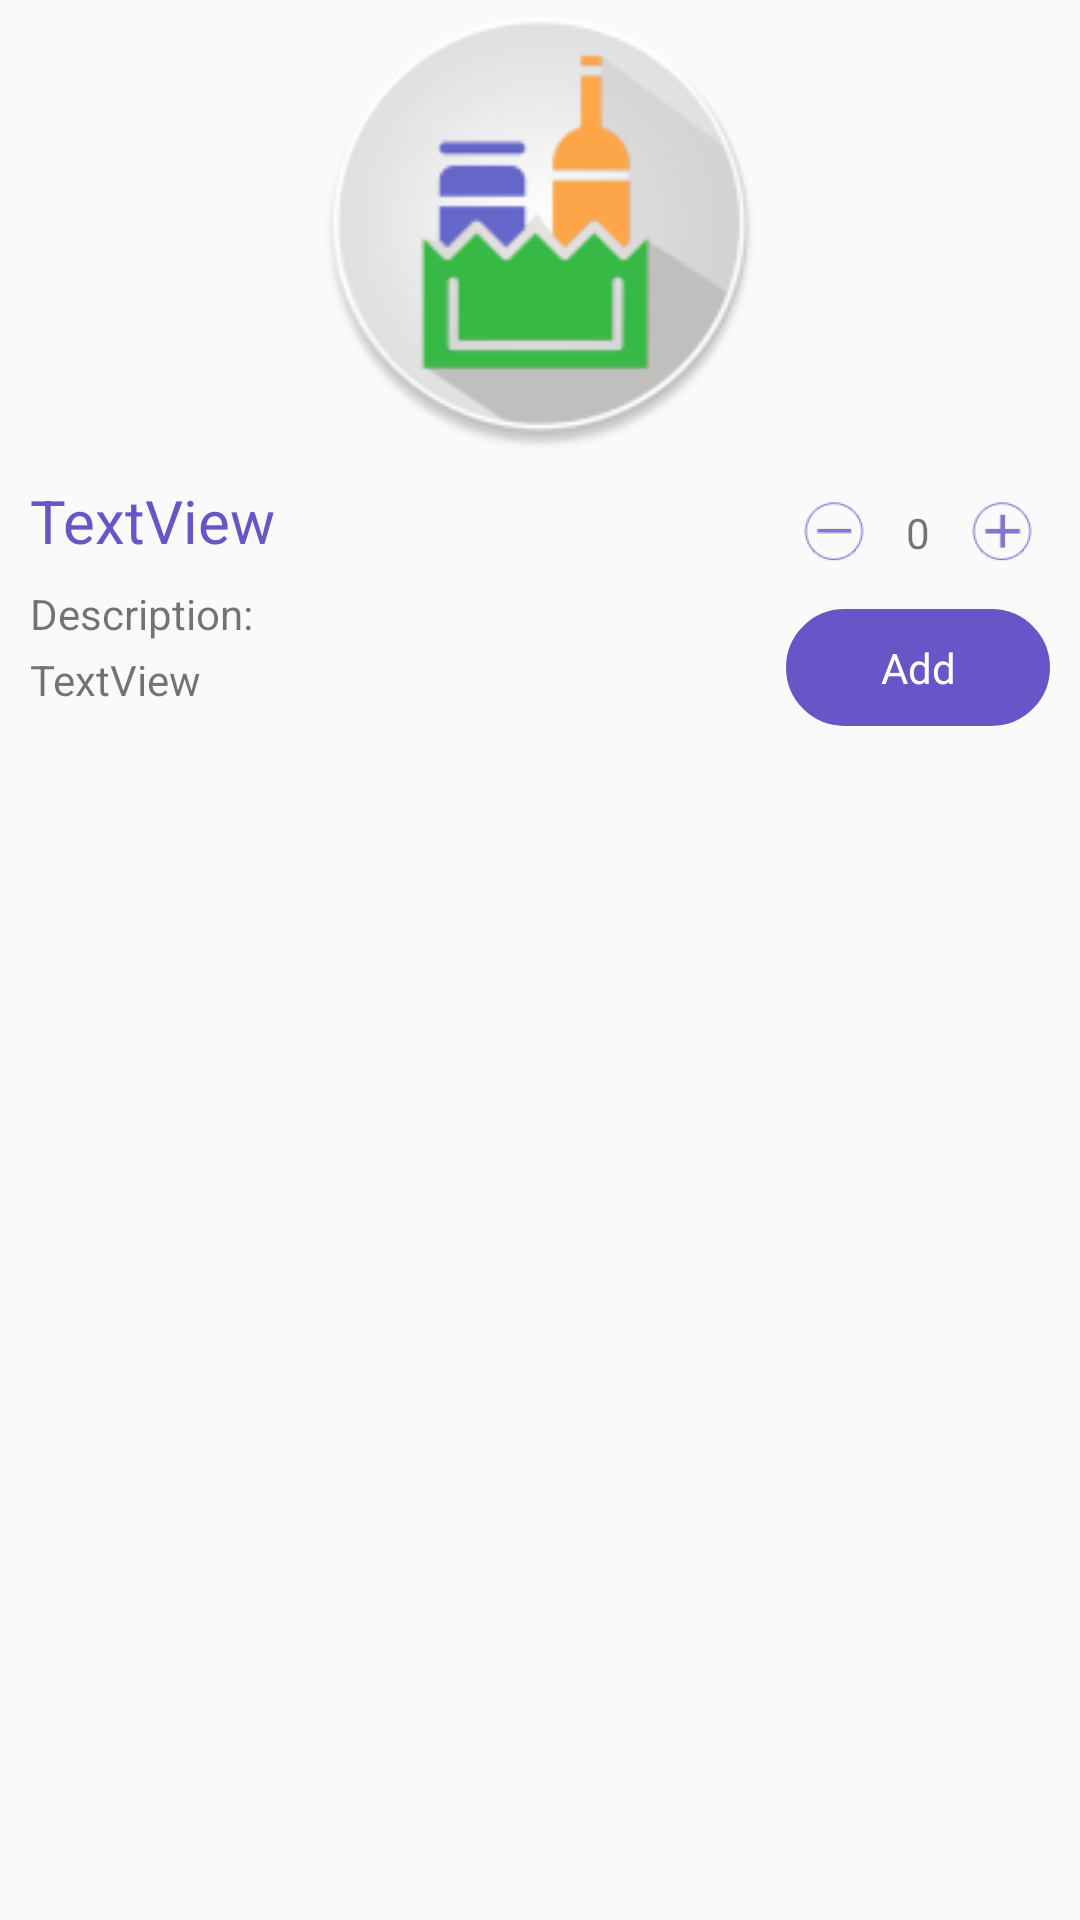

Icon click points for this 1080*1920 phone screenshot, format [x,y]:
less: [834,531]
more: [1002,531]
